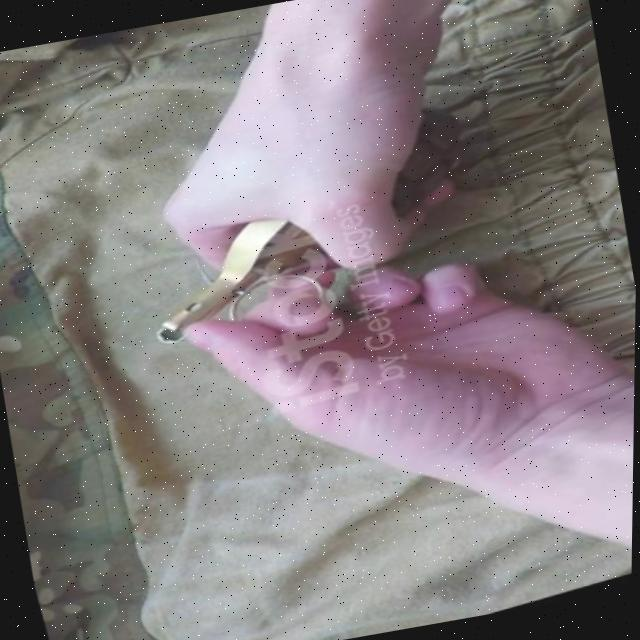grenade: (108, 94, 499, 350)
